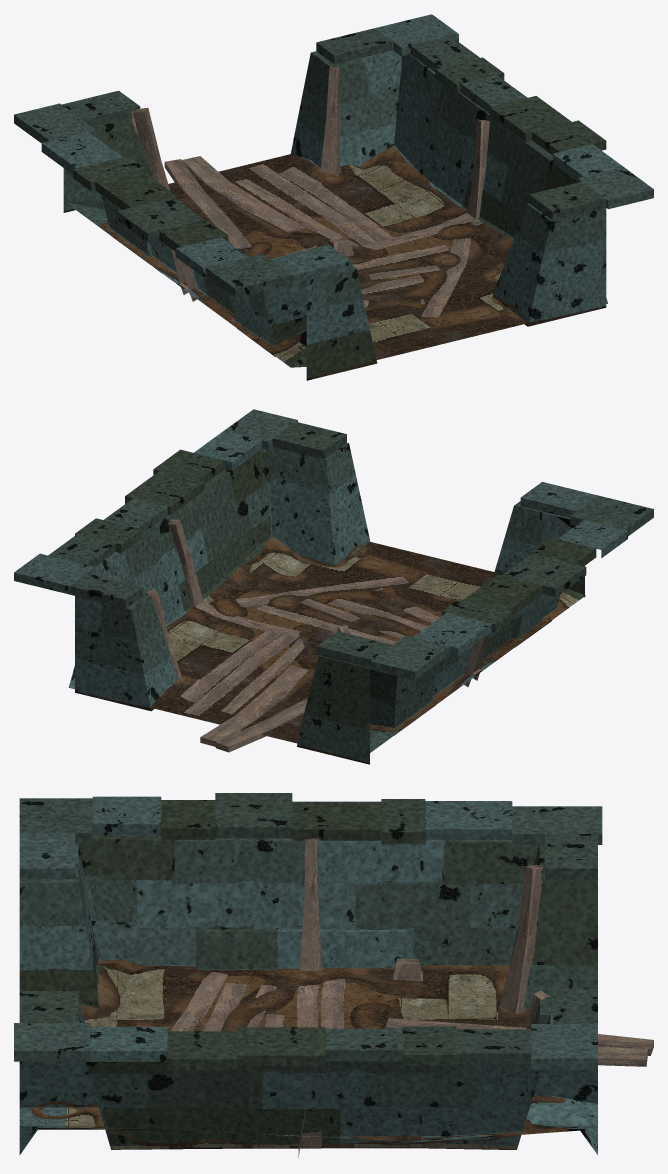
The model's file is 4x4 straight.fbx.
3 views of the same model, one above another, from view 1: azimuth 30°, elevation 25°; view 2: azimuth 150°, elevation 25°; view 3: azimuth 270°, elevation 25° (orthographic). The views are drawn at different scales.
Visible parts, largest first — view 1: 4x4 straight LP; view 2: 4x4 straight LP; view 3: 4x4 straight LP.
Boxes of the visible parts, x1,y1,x2,y2 form: 4x4 straight LP: (14, 14, 653, 380); 4x4 straight LP: (14, 409, 653, 764); 4x4 straight LP: (14, 793, 653, 1157).
Bounding box in the file's own units: 1308 × 329 × 1328.
